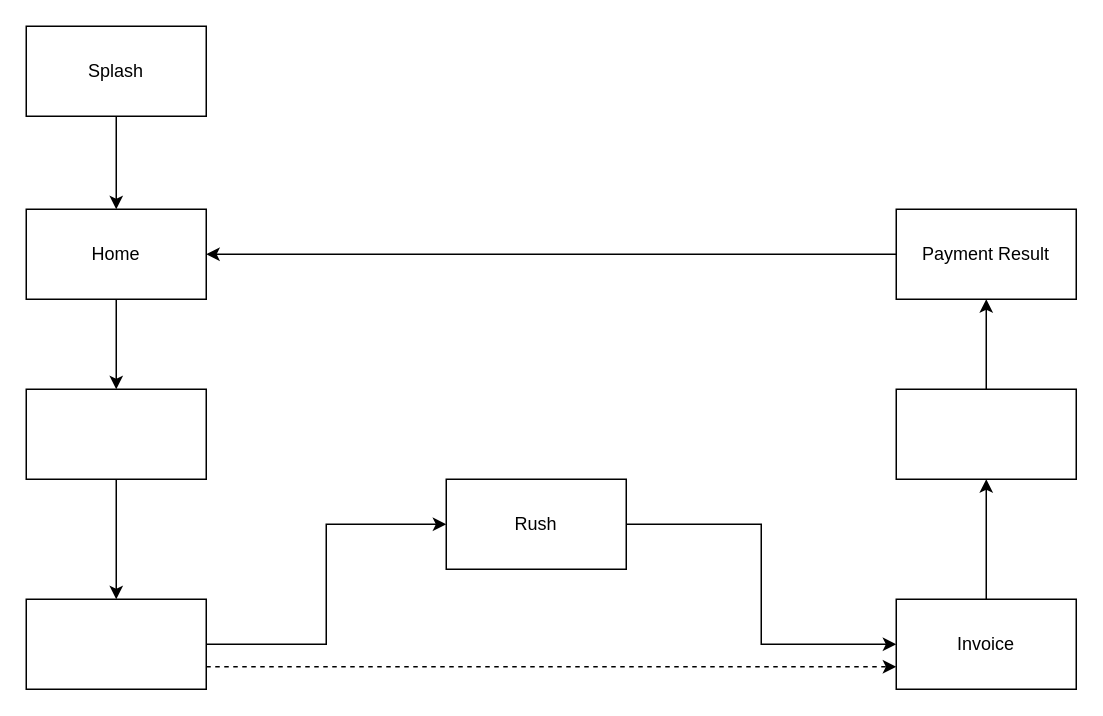
Image size: 1103x716. Some labels were removed from this diagram. The shapes that lost their labels are listed below. From the top down, each one's centre as x and y in pixels, then its label:
At pixel 115 433: "Cart".
At pixel 985 433: "Payment".
At pixel 115 643: "Delivery".
